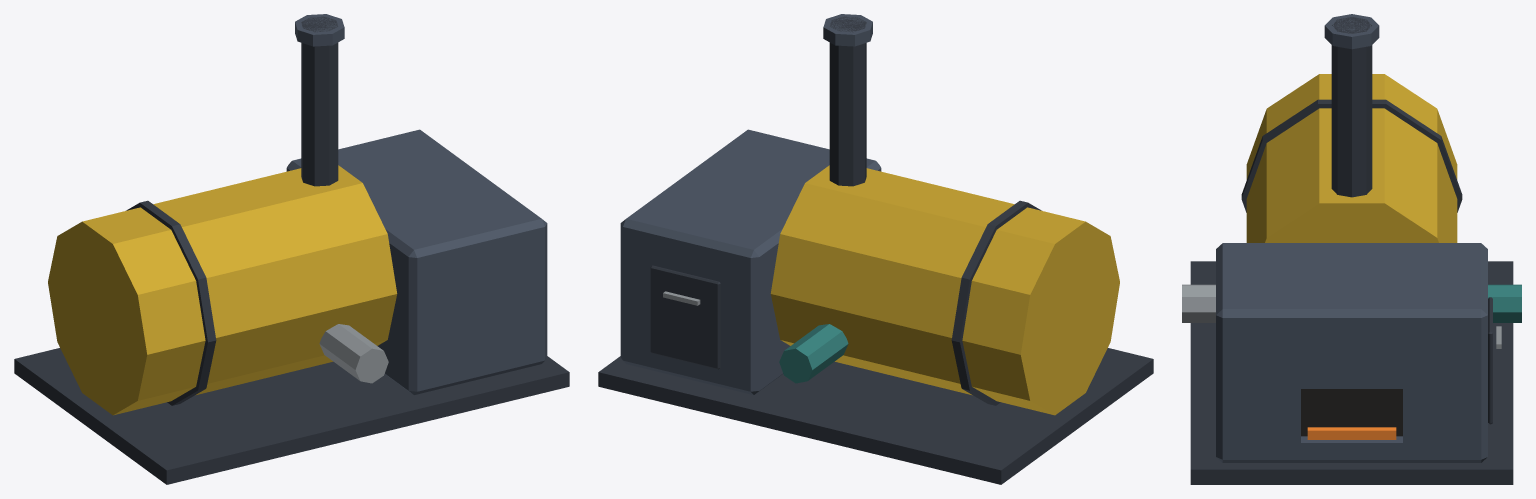
File: boiler.obj
3 renders of one model, left to right at view 1: azimuth 30°, elevation 25°; view 2: azimuth 150°, elevation 25°; view 3: azimuth 270°, elevation 25°, orthographic. The views are drawn at different scales.
Visible parts, largest first — view 1: body; view 2: body; view 3: body.
Part boxes in pixels (bbox=[...]): body: bbox=[14, 14, 569, 484]; body: bbox=[598, 14, 1153, 484]; body: bbox=[1182, 14, 1521, 484].
Bounding box in the file's own units: 2.9 × 2.4 × 2.
